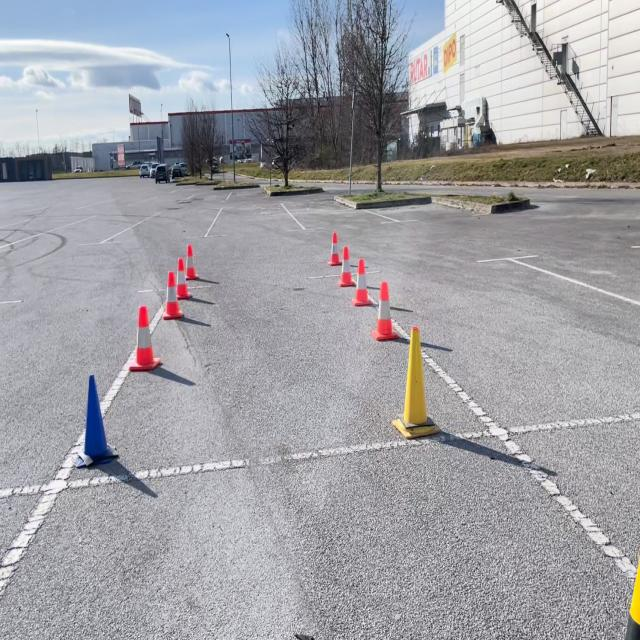blue_cone: (72, 371, 119, 470)
orange_cone: (127, 300, 162, 371), (370, 278, 400, 340), (161, 270, 183, 320), (351, 258, 373, 306), (172, 254, 190, 306), (338, 242, 356, 290), (184, 243, 199, 280), (328, 230, 342, 265)
yellow_cone: (392, 323, 441, 438), (616, 518, 640, 640)
